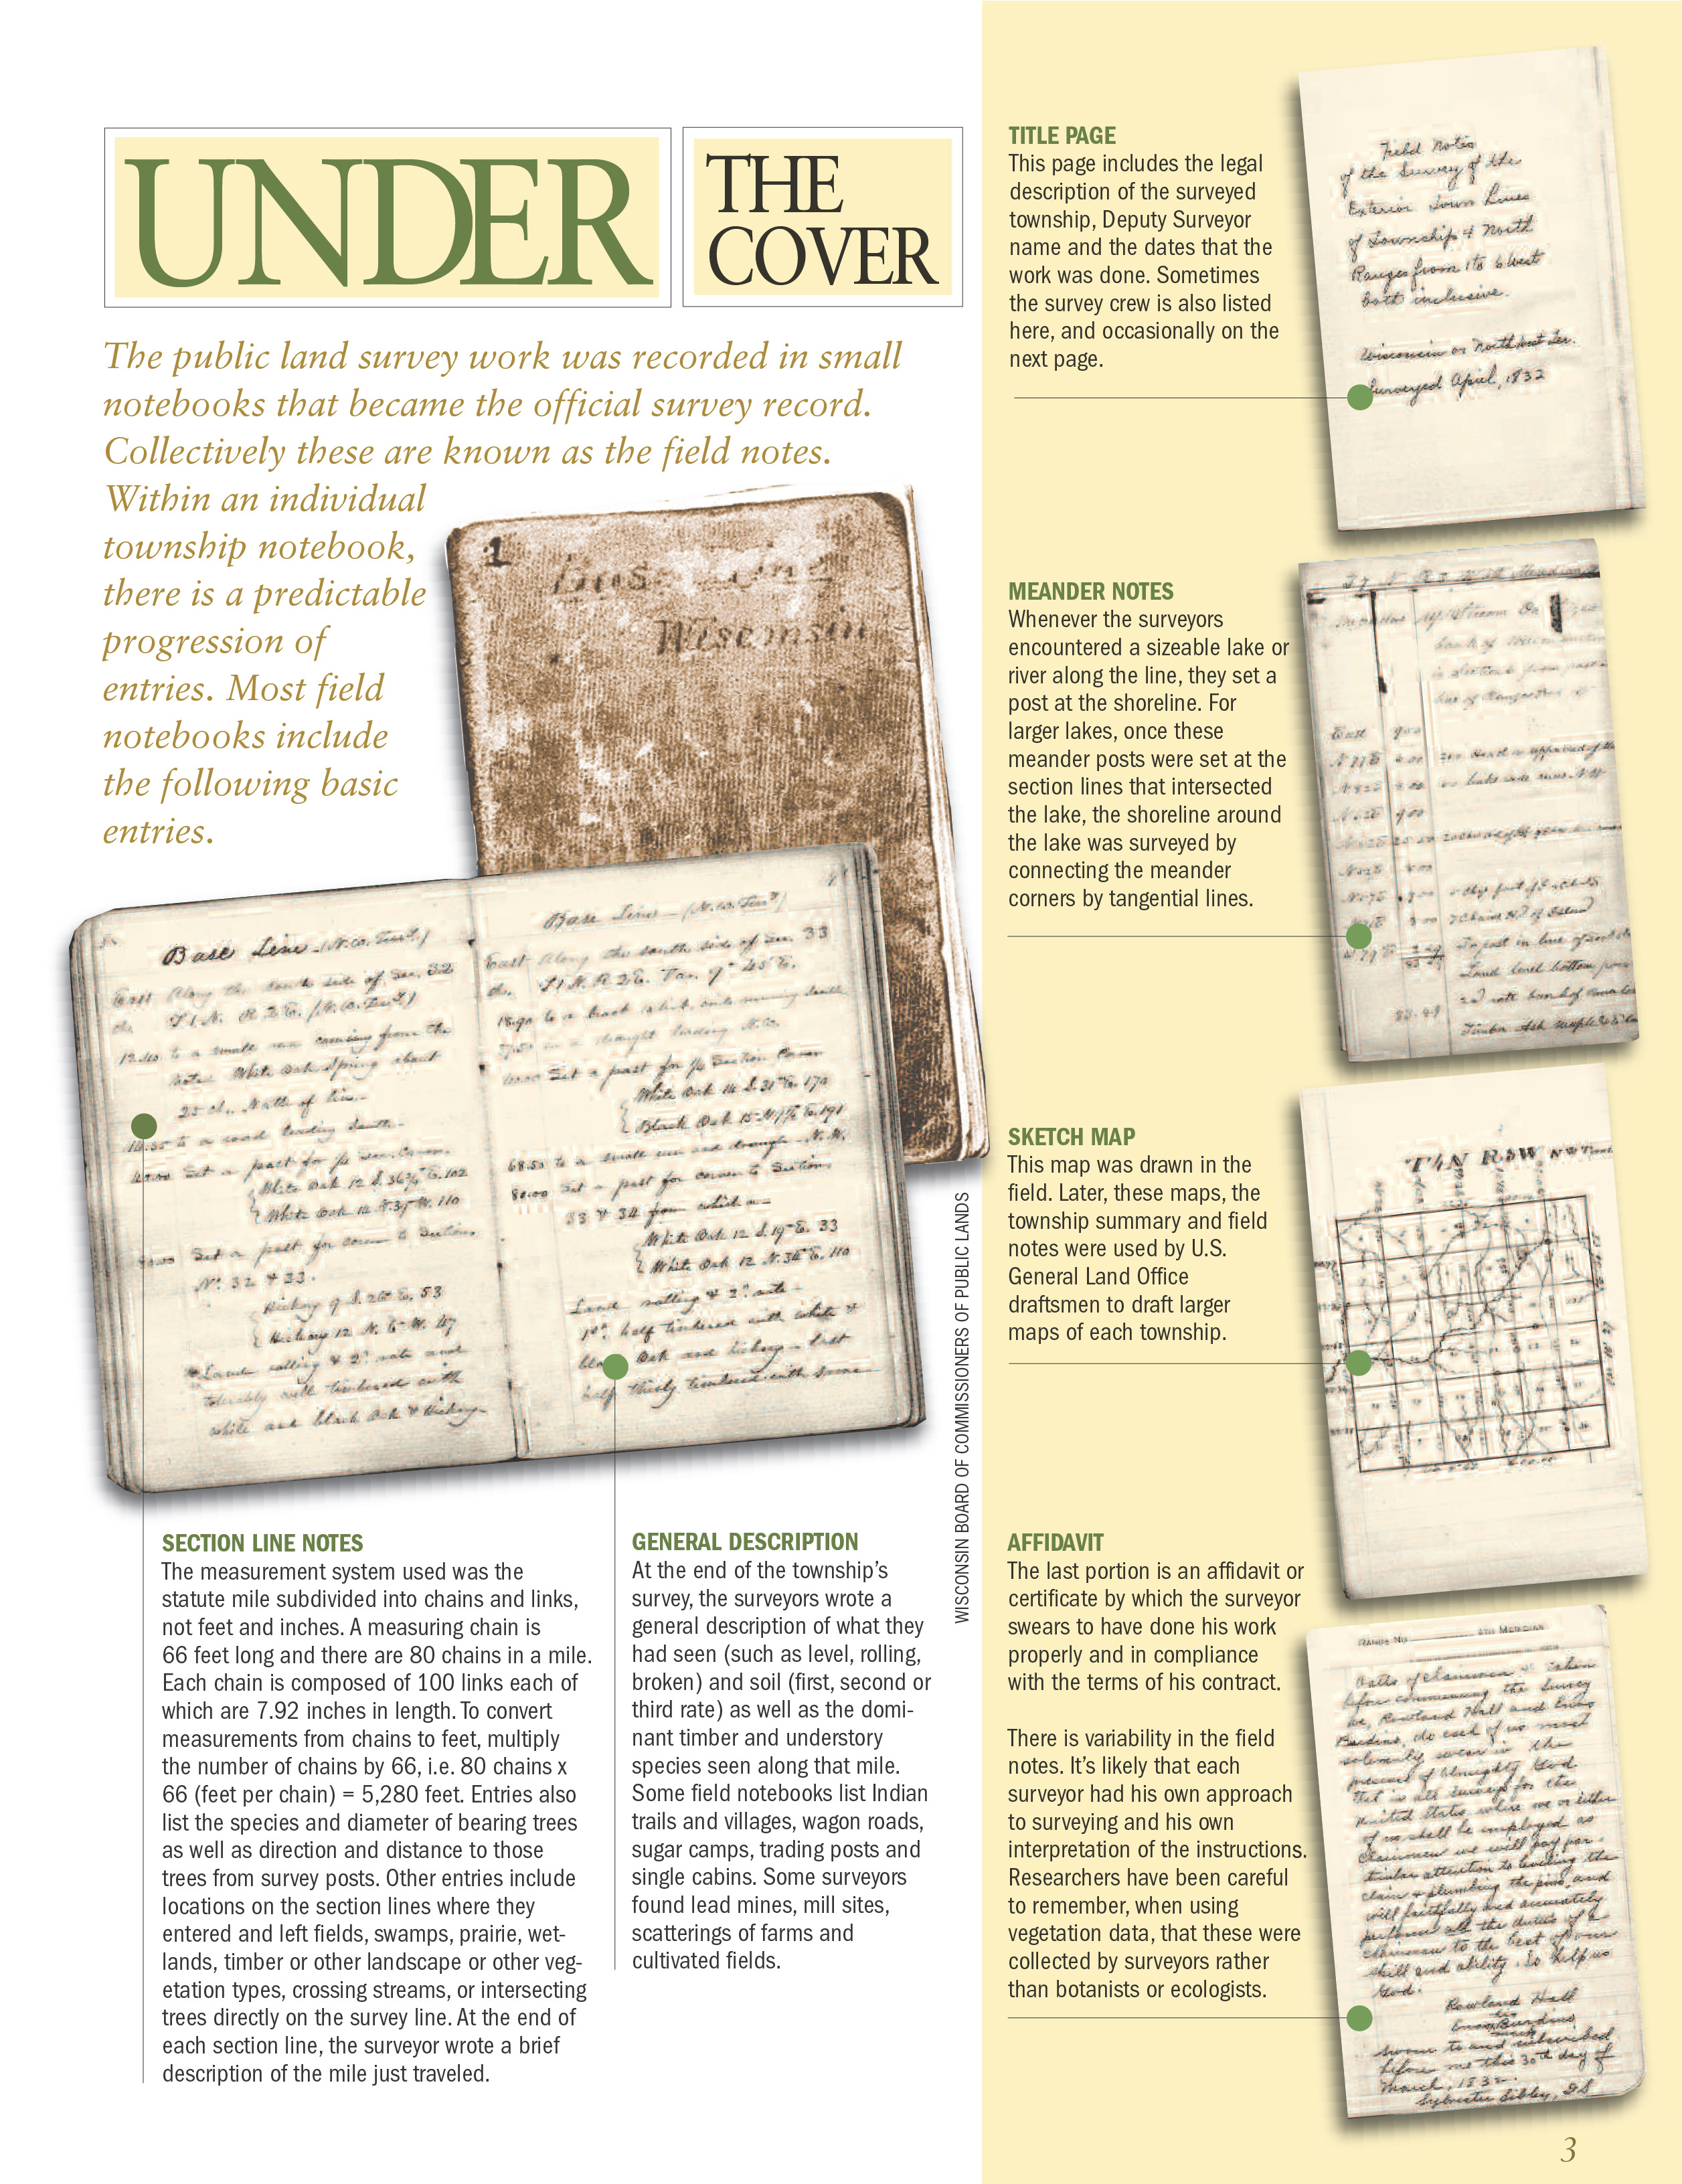figure: (58, 488, 975, 1488), (1293, 1062, 1641, 1597), (1306, 1606, 1652, 2140), (1295, 58, 1641, 539), (1302, 558, 1641, 1046)
section: (118, 141, 641, 295), (705, 141, 943, 284), (629, 1514, 862, 1566), (161, 1520, 366, 1566), (1007, 578, 1180, 610), (1004, 118, 1118, 154), (1007, 1122, 1134, 1145), (1011, 1523, 1102, 1555)
text: (110, 334, 905, 834), (161, 1574, 578, 2082), (622, 1571, 928, 1979), (1007, 1723, 1295, 2007), (1007, 615, 1276, 908), (1011, 166, 1274, 378), (1004, 1154, 1263, 1341), (1011, 1569, 1283, 1700)
